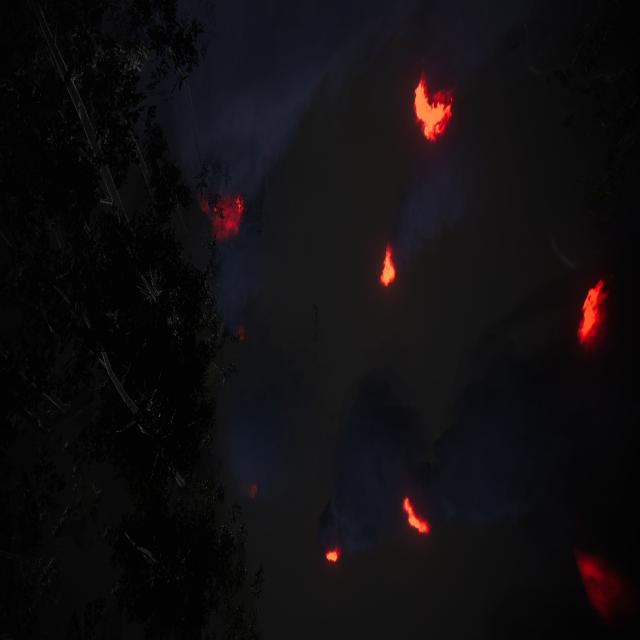Human: (305, 298, 326, 370)
